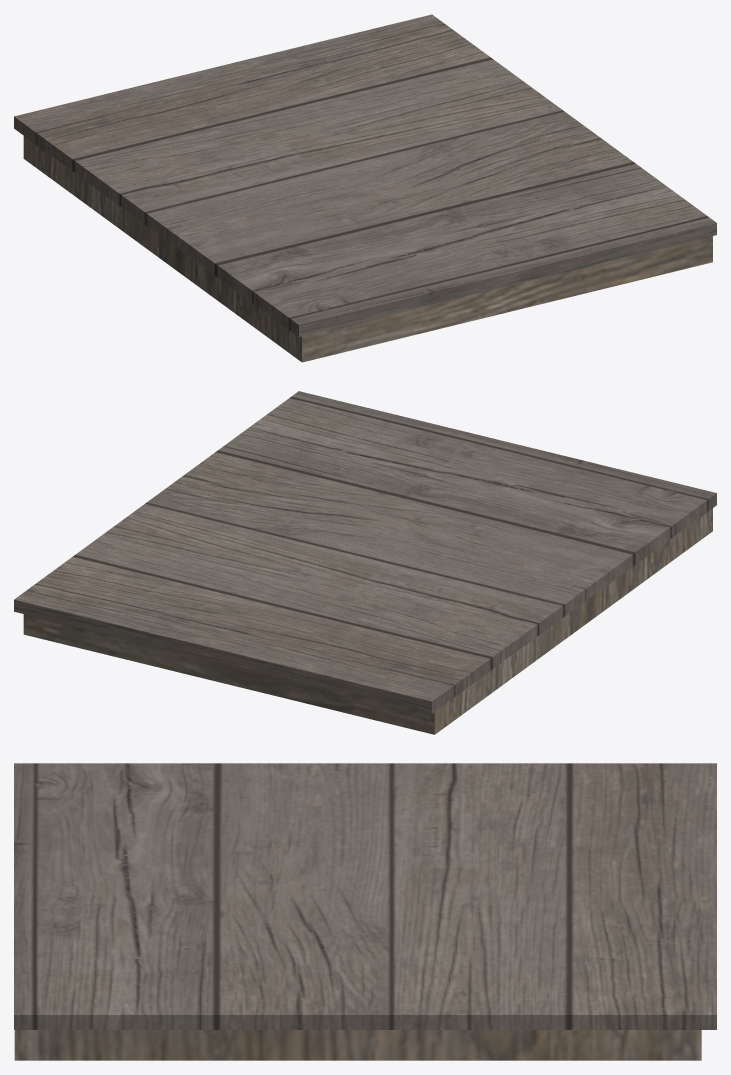
File: woodstair01c.fbx
The picture shows the model from 3 angles, top to bottom: view 1: azimuth 30°, elevation 25°; view 2: azimuth 150°, elevation 25°; view 3: azimuth 270°, elevation 25°; orthographic projection. The views are drawn at different scales.
Parts seen in each view (by area): view 1: woodstair01c; view 2: woodstair01c; view 3: woodstair01c.
Part boxes in pixels (x1,y1,x2,y2): woodstair01c: [14, 14, 716, 362]; woodstair01c: [14, 391, 716, 734]; woodstair01c: [14, 763, 716, 1060].
Size of the model in its own units: 139 by 12.26 by 164.
